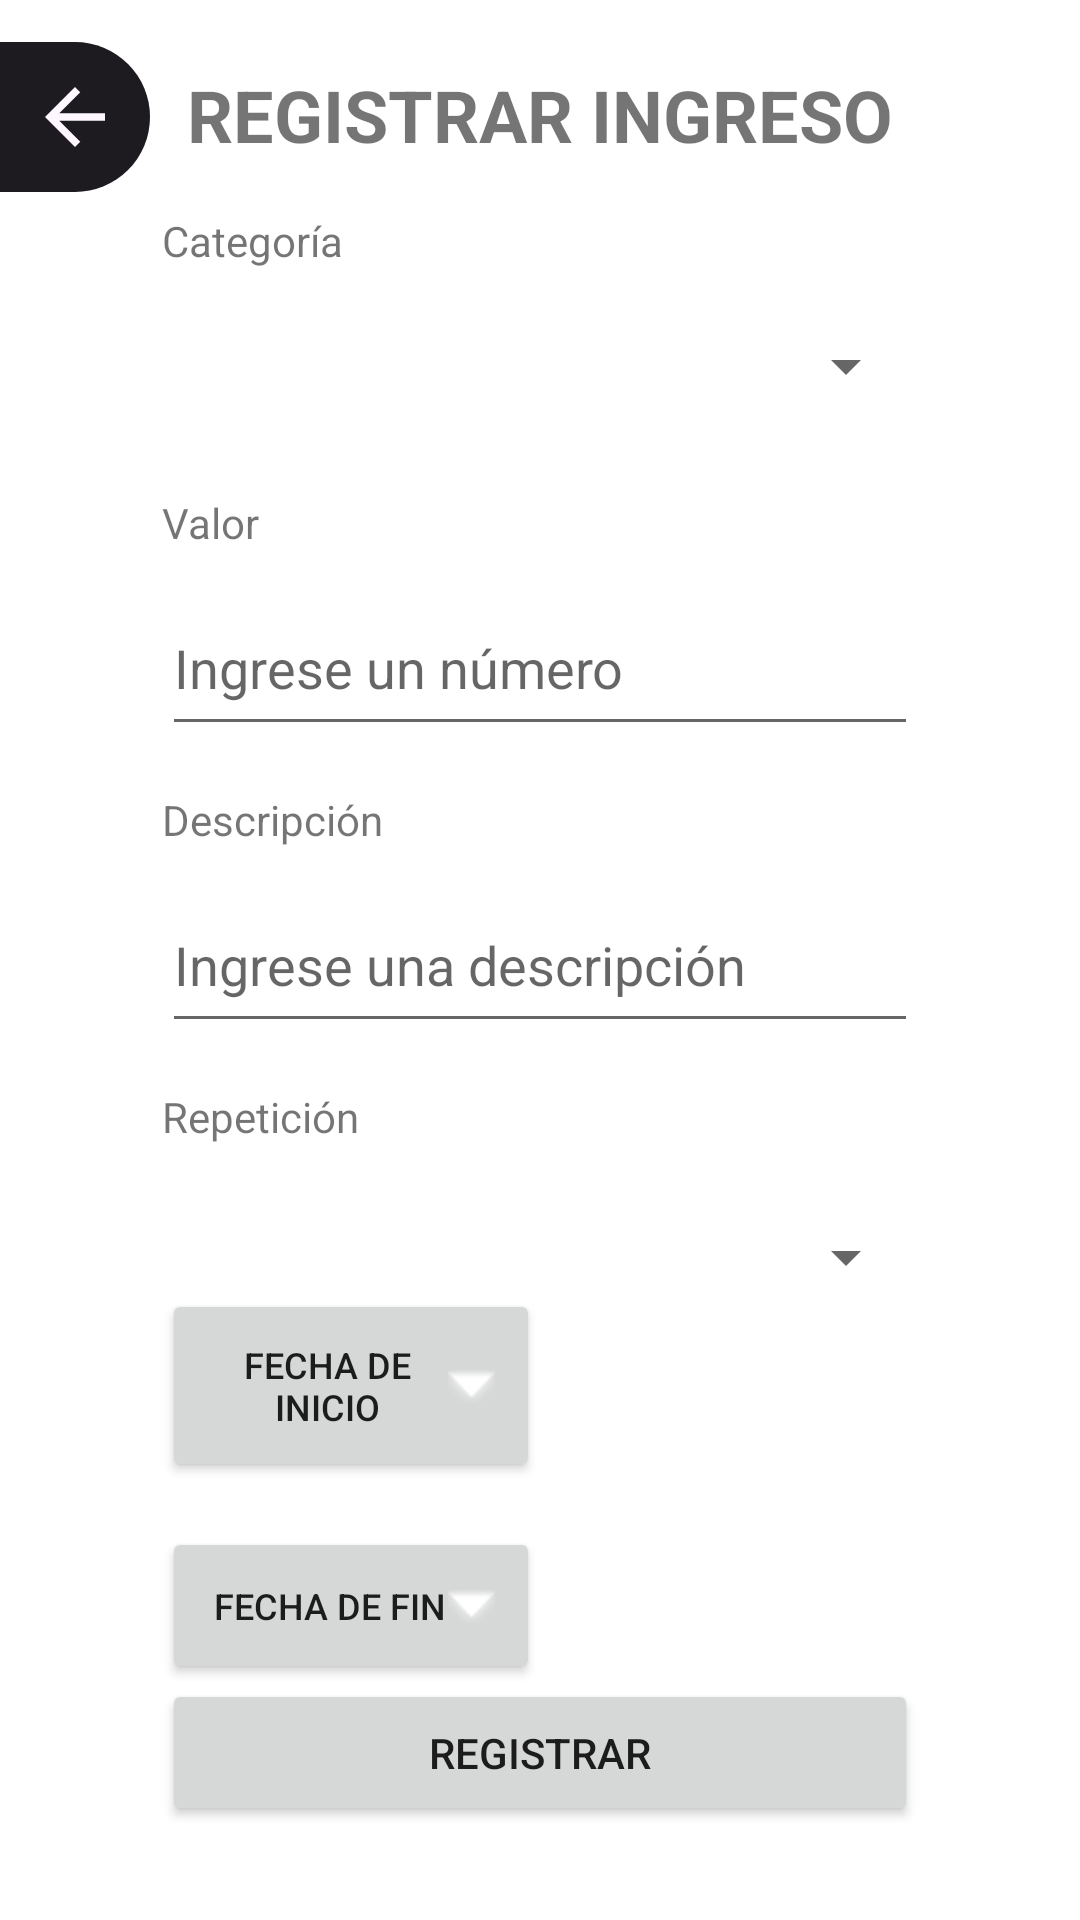

Icon click points for this 1080x1920 phone screenshot, format [x,y]:
Botón de Regresar a la pestaña principal: [75,117]
